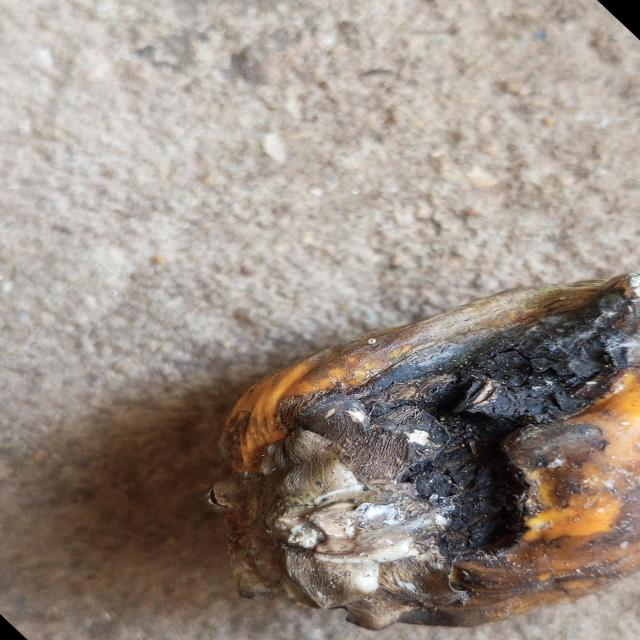damaged: (207, 275, 640, 636)
